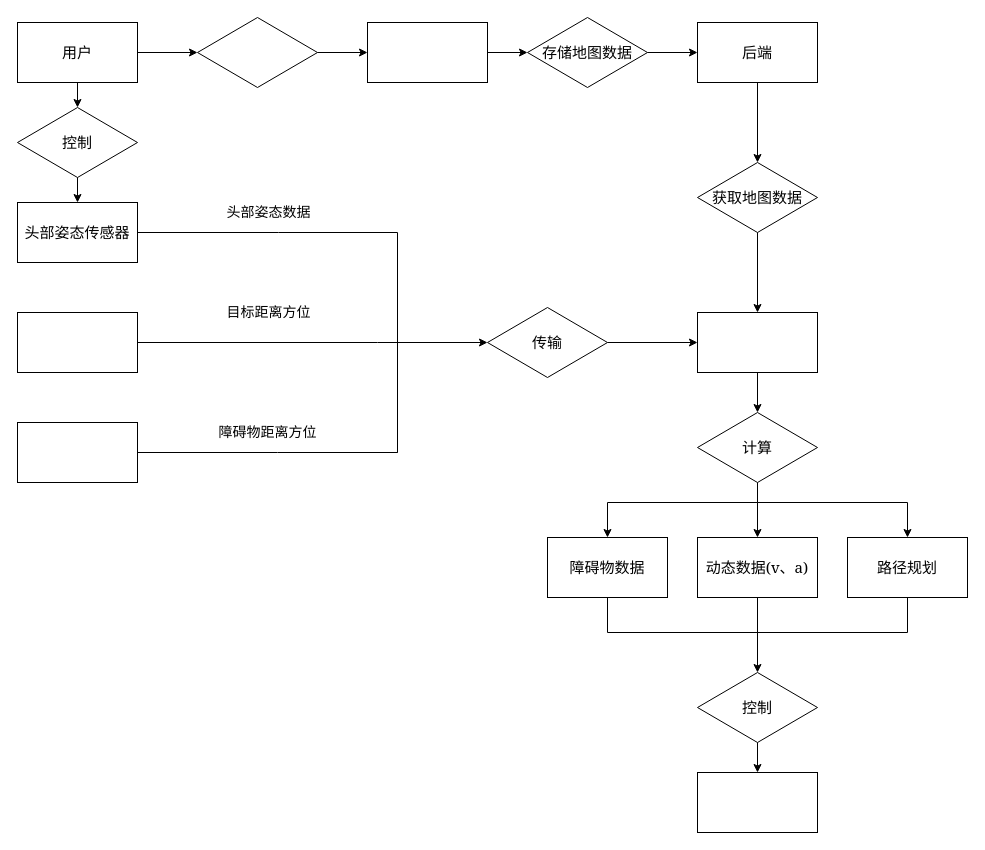
The diagram is 985 pixels wide and 850 high, and some of its shapes have lost their labels. Each missing label, with the box of its shape:
前端: (366, 22, 488, 82)
建图: (196, 16, 318, 88)
执行机构: (696, 772, 818, 832)
摄像头: (16, 312, 138, 372)
核心微型计算机: (696, 312, 818, 372)
激光雷达: (16, 422, 138, 482)
